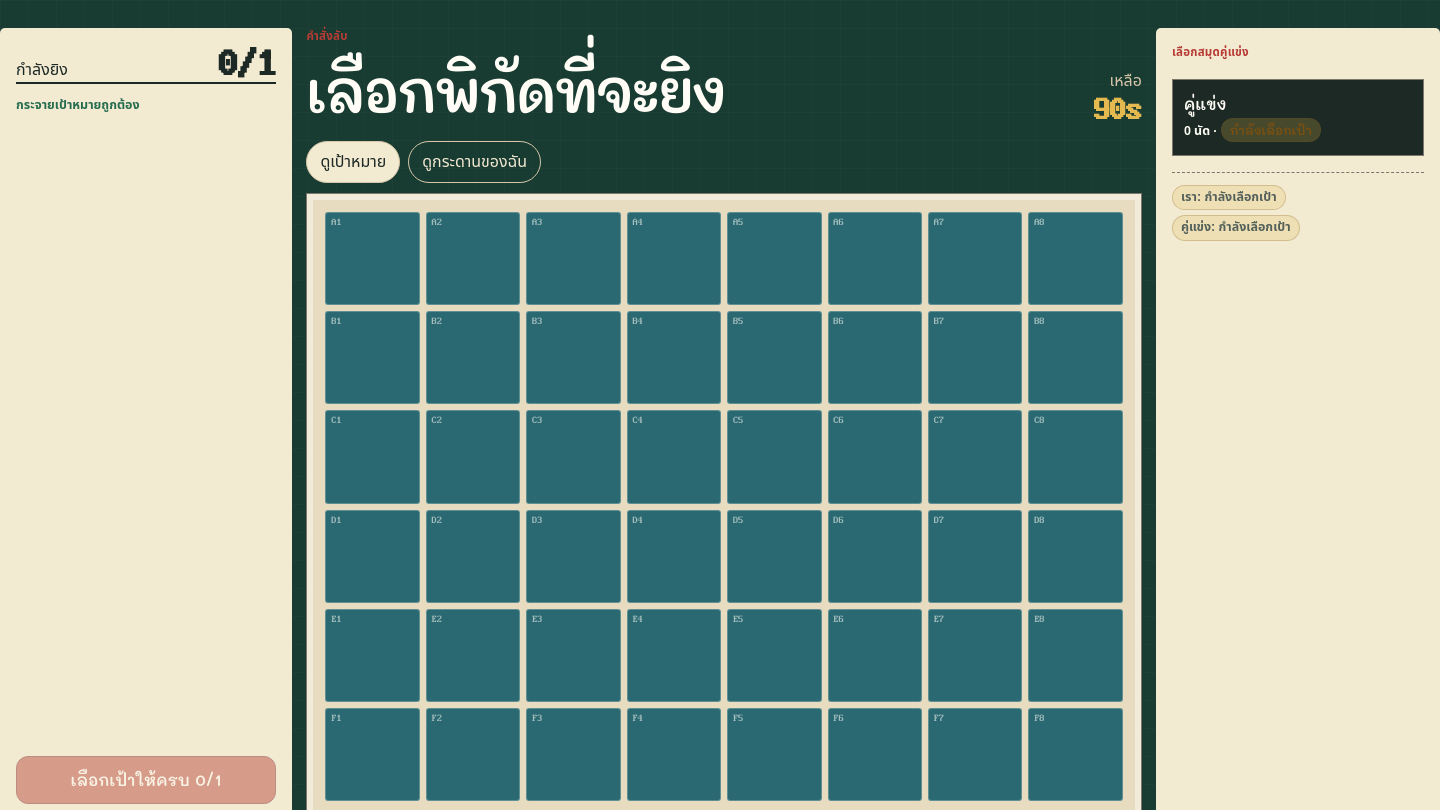
PlanningScreen › can switch between the opponent board and the player's own damaged board
Step 1. Click the button "ดูกระดานของฉัน" → (475, 162), box [408,141,541,183]
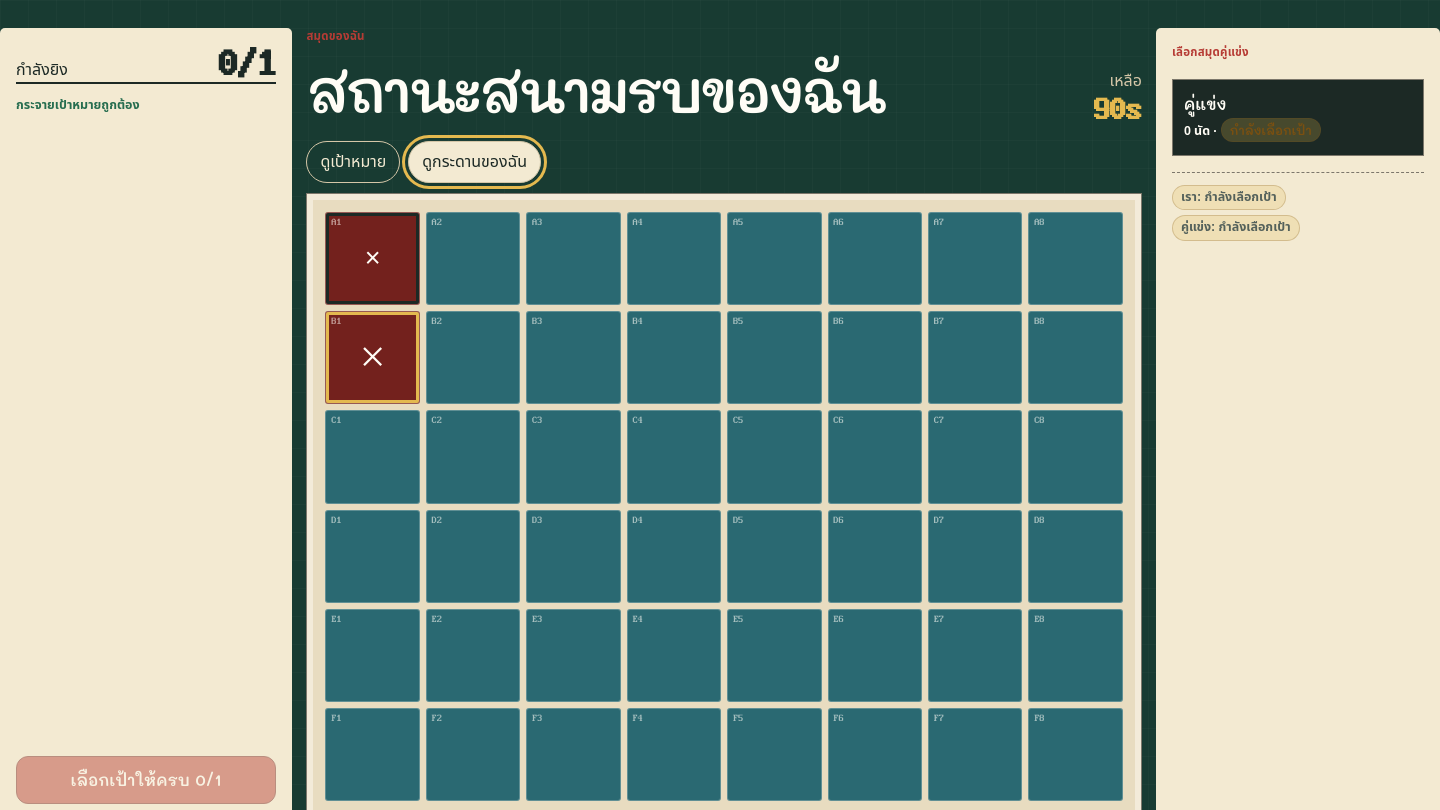
Expected: the heading "สถานะสนามรบของฉัน" is shown, [306,53,884,127]
Expected: the button named "ช่อง B1 เรือถูกยิง" is shown, [325,311,420,404]
